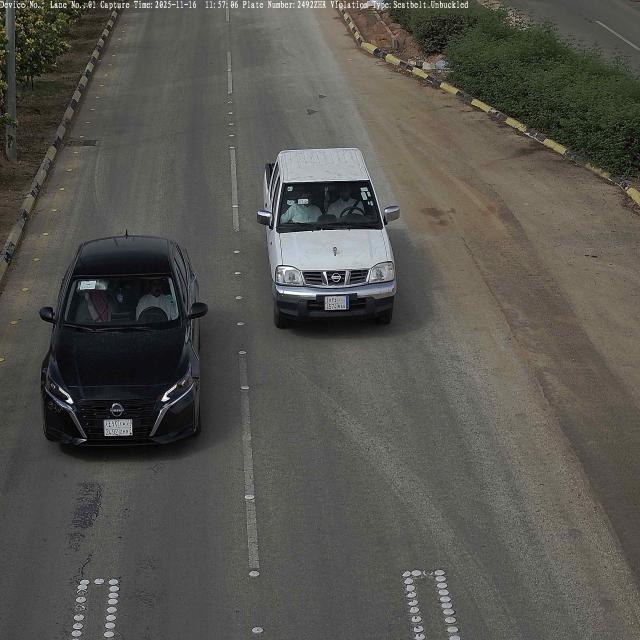person_with_seatbelt: (328, 182, 365, 220)
person_without_seatbelt: (134, 276, 174, 326)
